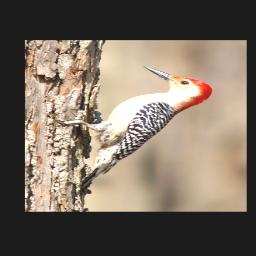Woodpecker: (54, 66, 217, 189)
